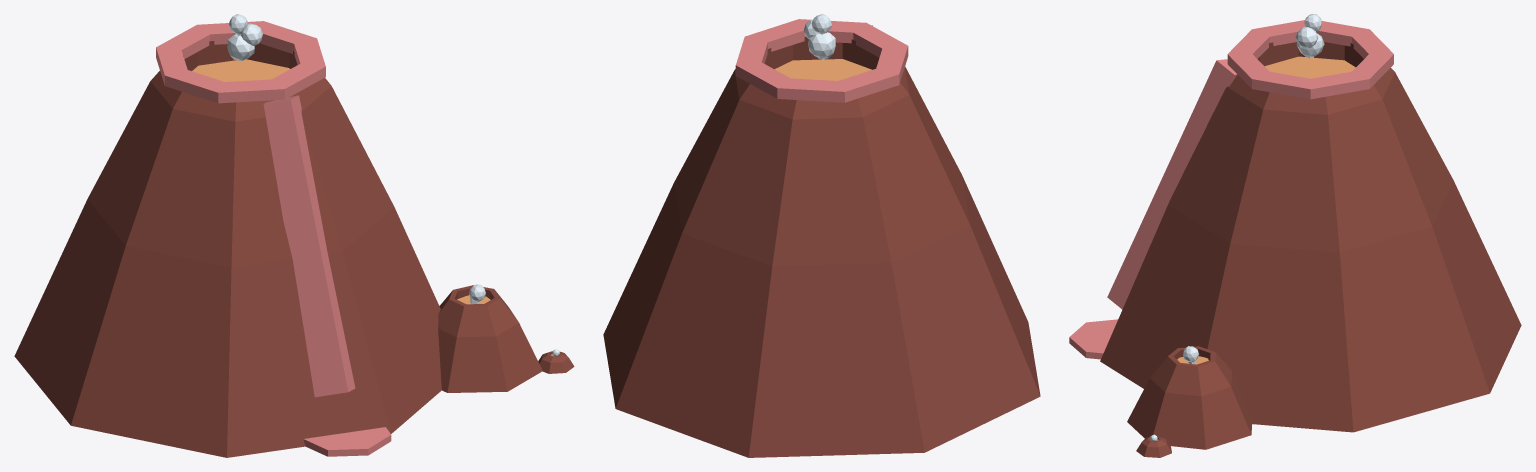
Rendered from volcanic-g2.glb.
3 renders of one model, left to right at view 1: azimuth 30°, elevation 25°; view 2: azimuth 150°, elevation 25°; view 3: azimuth 270°, elevation 25°, orthographic. The views are drawn at different scales.
Visible parts, largest first — view 1: volcanic-g2; view 2: volcanic-g2; view 3: volcanic-g2.
Boxes of the visible parts, x1=… form: volcanic-g2: x1=14, y1=14, x2=574, y2=457; volcanic-g2: x1=603, y1=14, x2=1040, y2=457; volcanic-g2: x1=1069, y1=14, x2=1521, y2=457.
Size of the model in its own units: 3.47 by 2.61 by 3.26.
